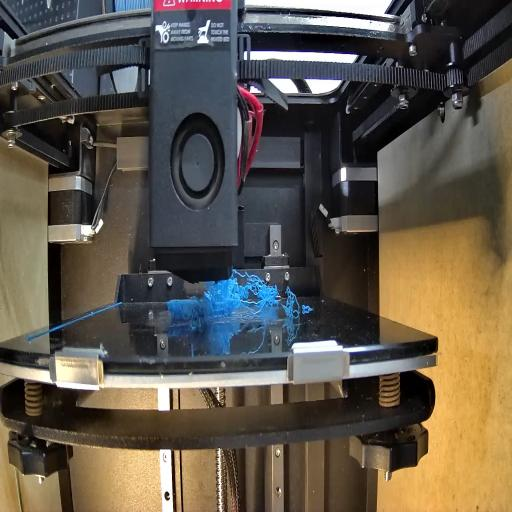spaghetti: (209, 275, 280, 306), (180, 296, 217, 334), (281, 285, 301, 320)
